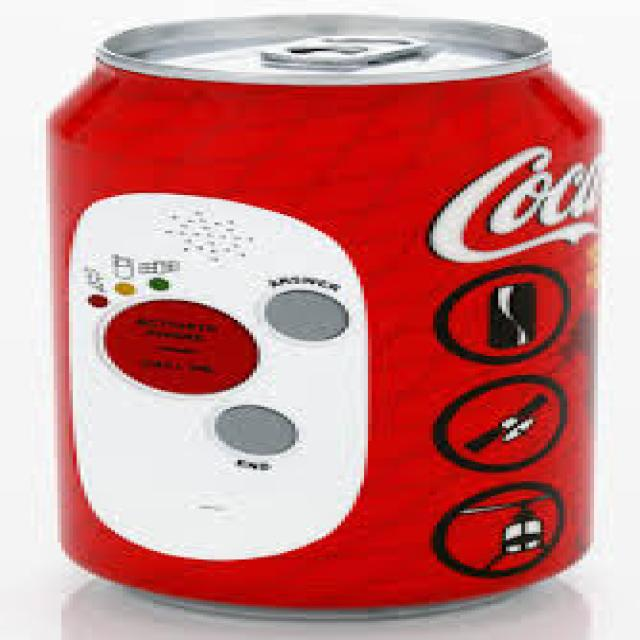aluminum_can: (50, 15, 602, 617)
